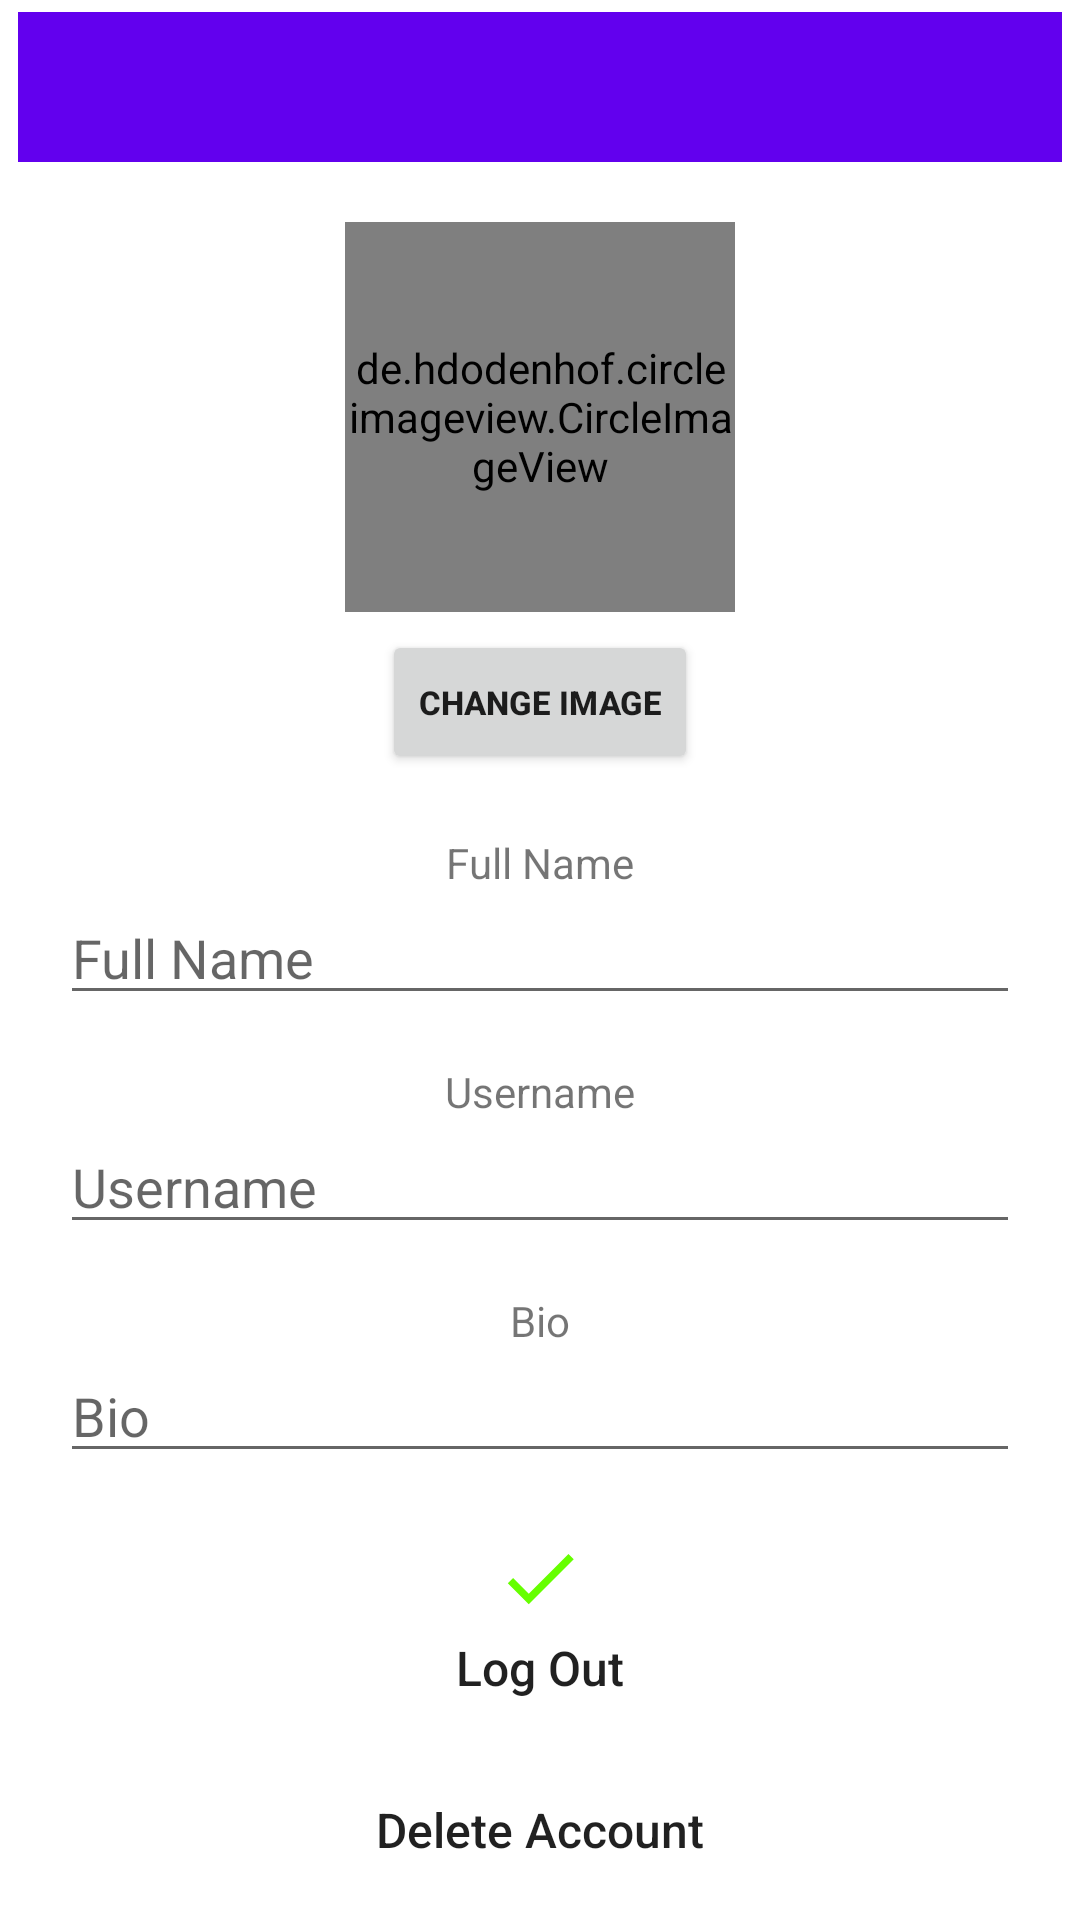

Icons on this 1080 × 1920 Android screen, each with its box as (x1, y1, x2, y2):
check: (508, 1554, 574, 1604)
